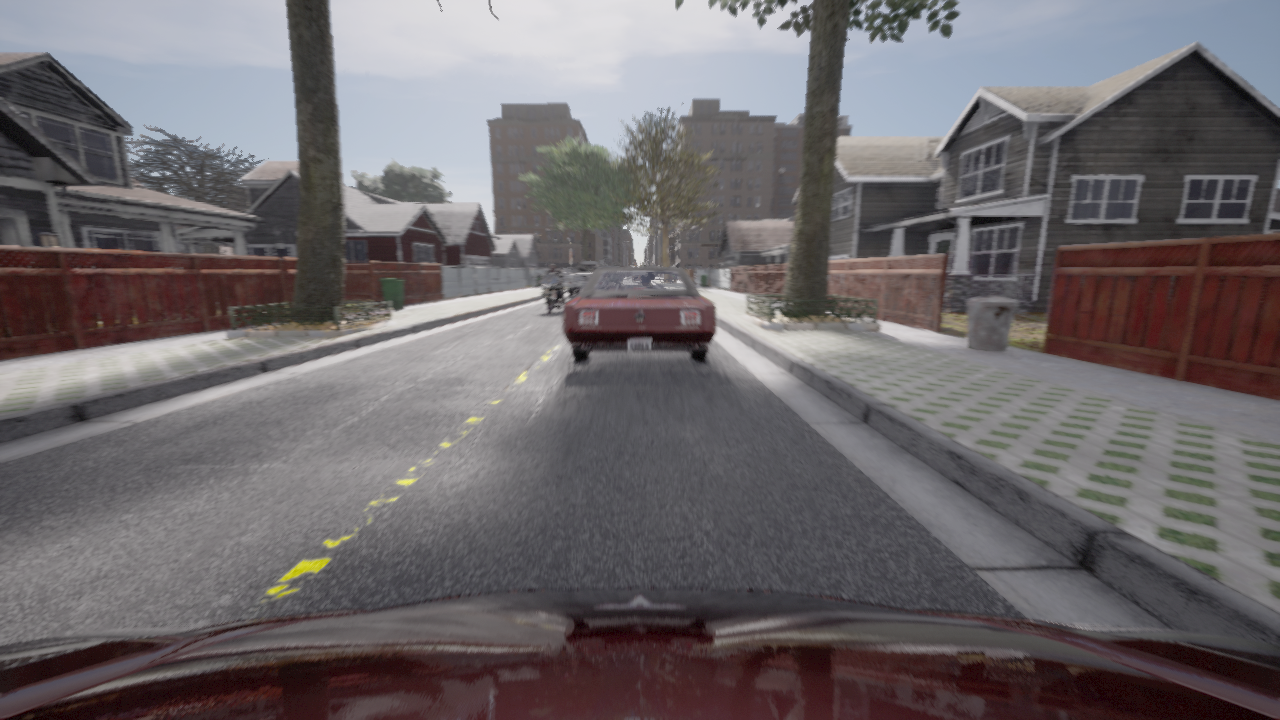cyclist: (0, 588, 1279, 719), (562, 266, 716, 361), (566, 261, 601, 296), (536, 273, 564, 313), (600, 264, 618, 267)
